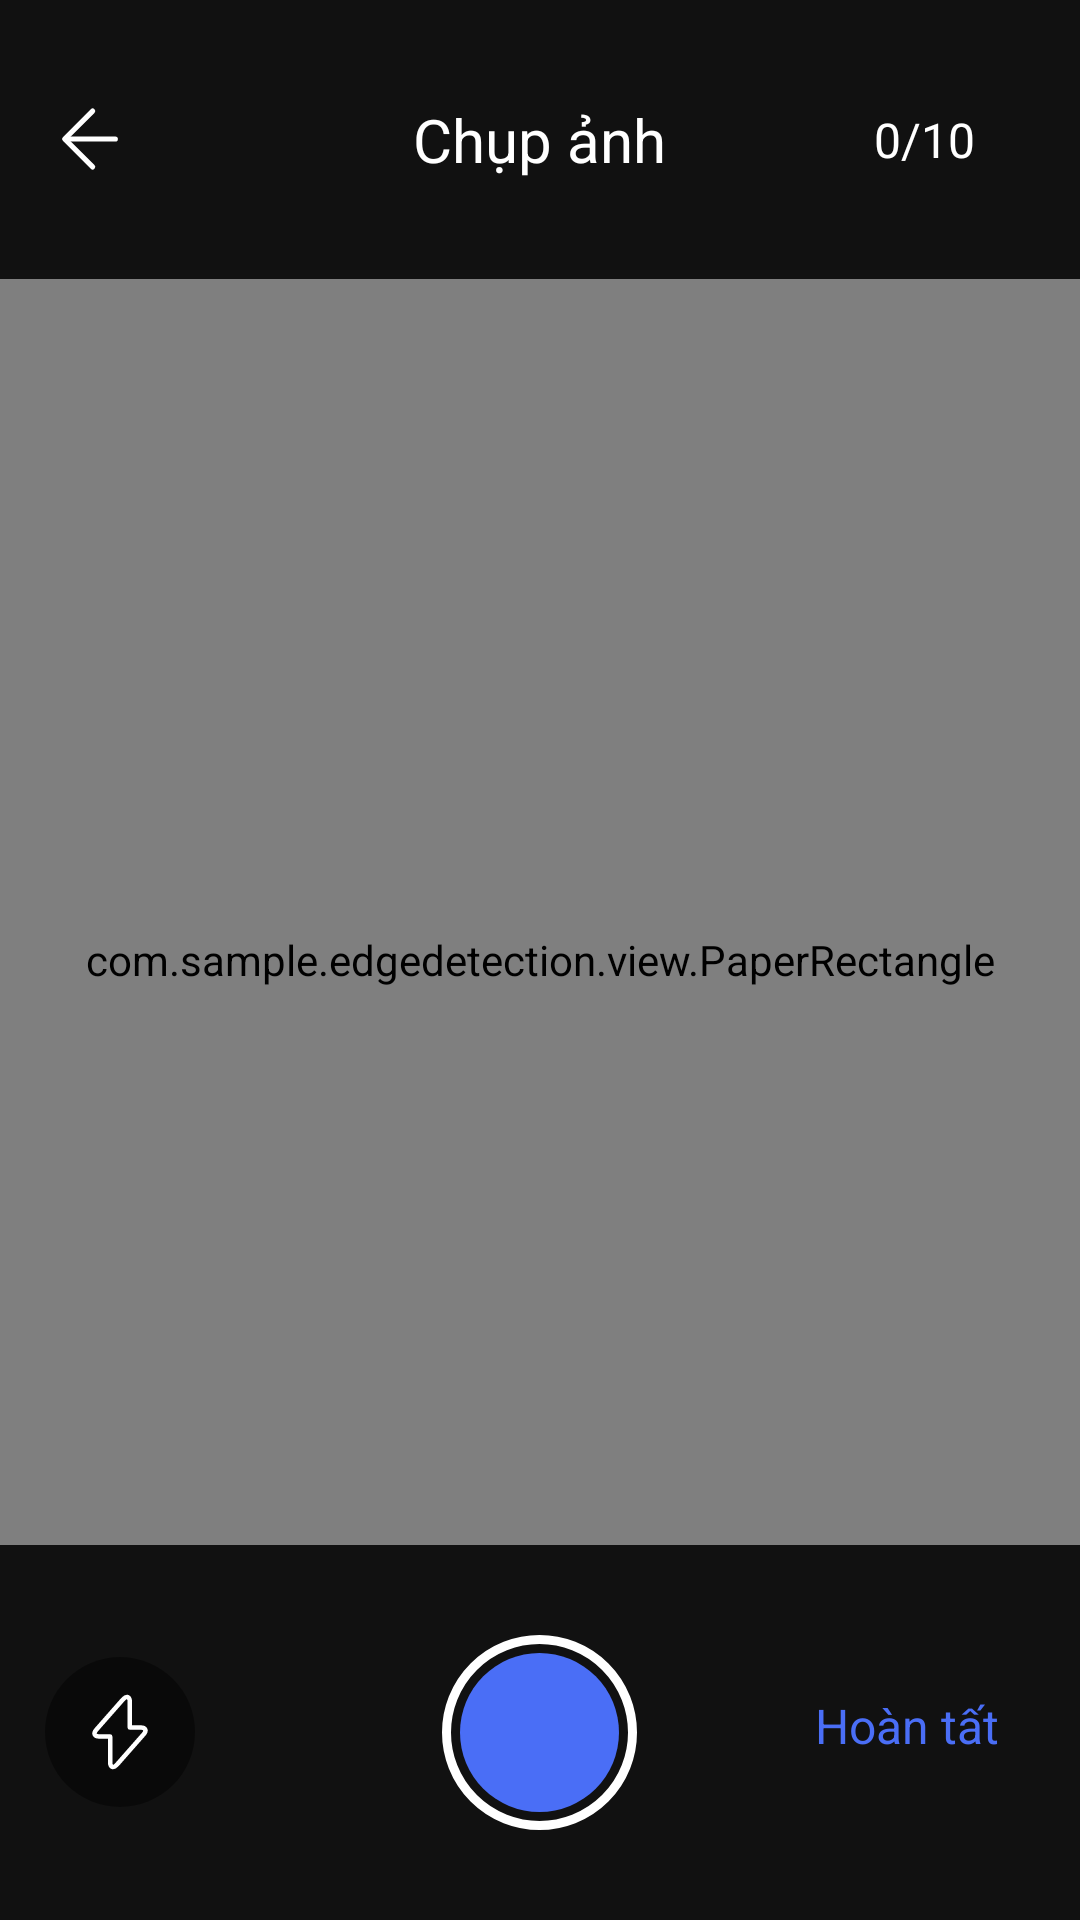

Icon click points for this 1080 x 1920 phone screenshot, format point (x, y):
back: point (90, 139)
flash: point (120, 1732)
